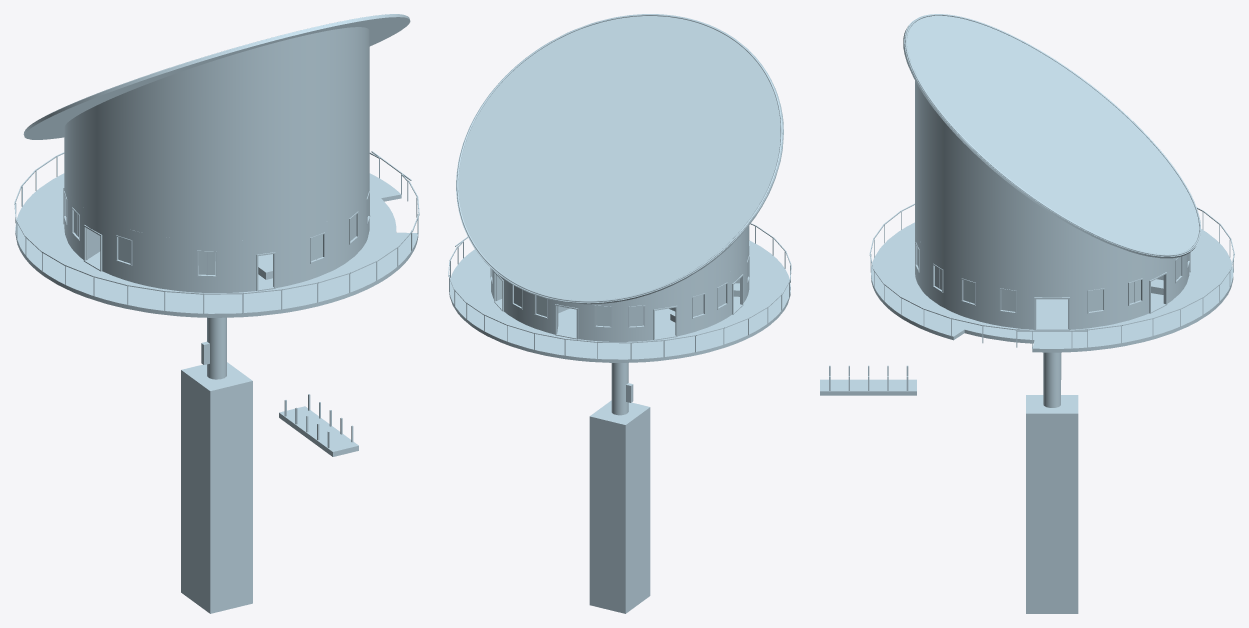
File: tower_crown_3_lod1.glb
The picture shows the model from 3 angles, left to right: view 1: azimuth 30°, elevation 25°; view 2: azimuth 150°, elevation 25°; view 3: azimuth 270°, elevation 25°; orthographic projection. The views are drawn at different scales.
Parts seen in each view (by area): view 1: Roof infill, Pod container, Slab 2, Facade 2, Solar disc, Bridge deck, Hatch column, Solar rim; view 2: Solar disc, Slab 2, Pod container, Facade 2, Solar rim, Roof infill, Hatch column; view 3: Solar disc, Roof infill, Slab 2, Pod container, Facade 2, Solar rim, Bridge deck, Hatch column.
Part boxes in pixels (x1,y1,x2,y2): Roof infill: (64, 27, 369, 240); Pod container: (181, 362, 252, 613); Slab 2: (15, 173, 418, 317); Facade 2: (64, 177, 369, 292); Solar disc: (23, 14, 410, 139); Bridge deck: (279, 406, 358, 456); Hatch column: (207, 317, 226, 379); Solar rim: (25, 14, 405, 129); Solar disc: (456, 14, 783, 304); Slab 2: (449, 240, 790, 362); Pod container: (589, 400, 650, 613); Facade 2: (491, 241, 749, 341); Solar rim: (456, 14, 782, 302); Roof infill: (640, 225, 749, 297); Hatch column: (611, 363, 628, 415); Solar disc: (903, 14, 1201, 258); Roof infill: (915, 81, 1164, 283); Slab 2: (871, 222, 1233, 352); Pod container: (1026, 395, 1078, 613); Facade 2: (915, 229, 1189, 329); Solar rim: (905, 14, 1200, 256); Bridge deck: (820, 379, 916, 395); Hatch column: (1043, 352, 1061, 407).
Bounding box in the file's own units: 20.1 × 34.3 × 22.87.
